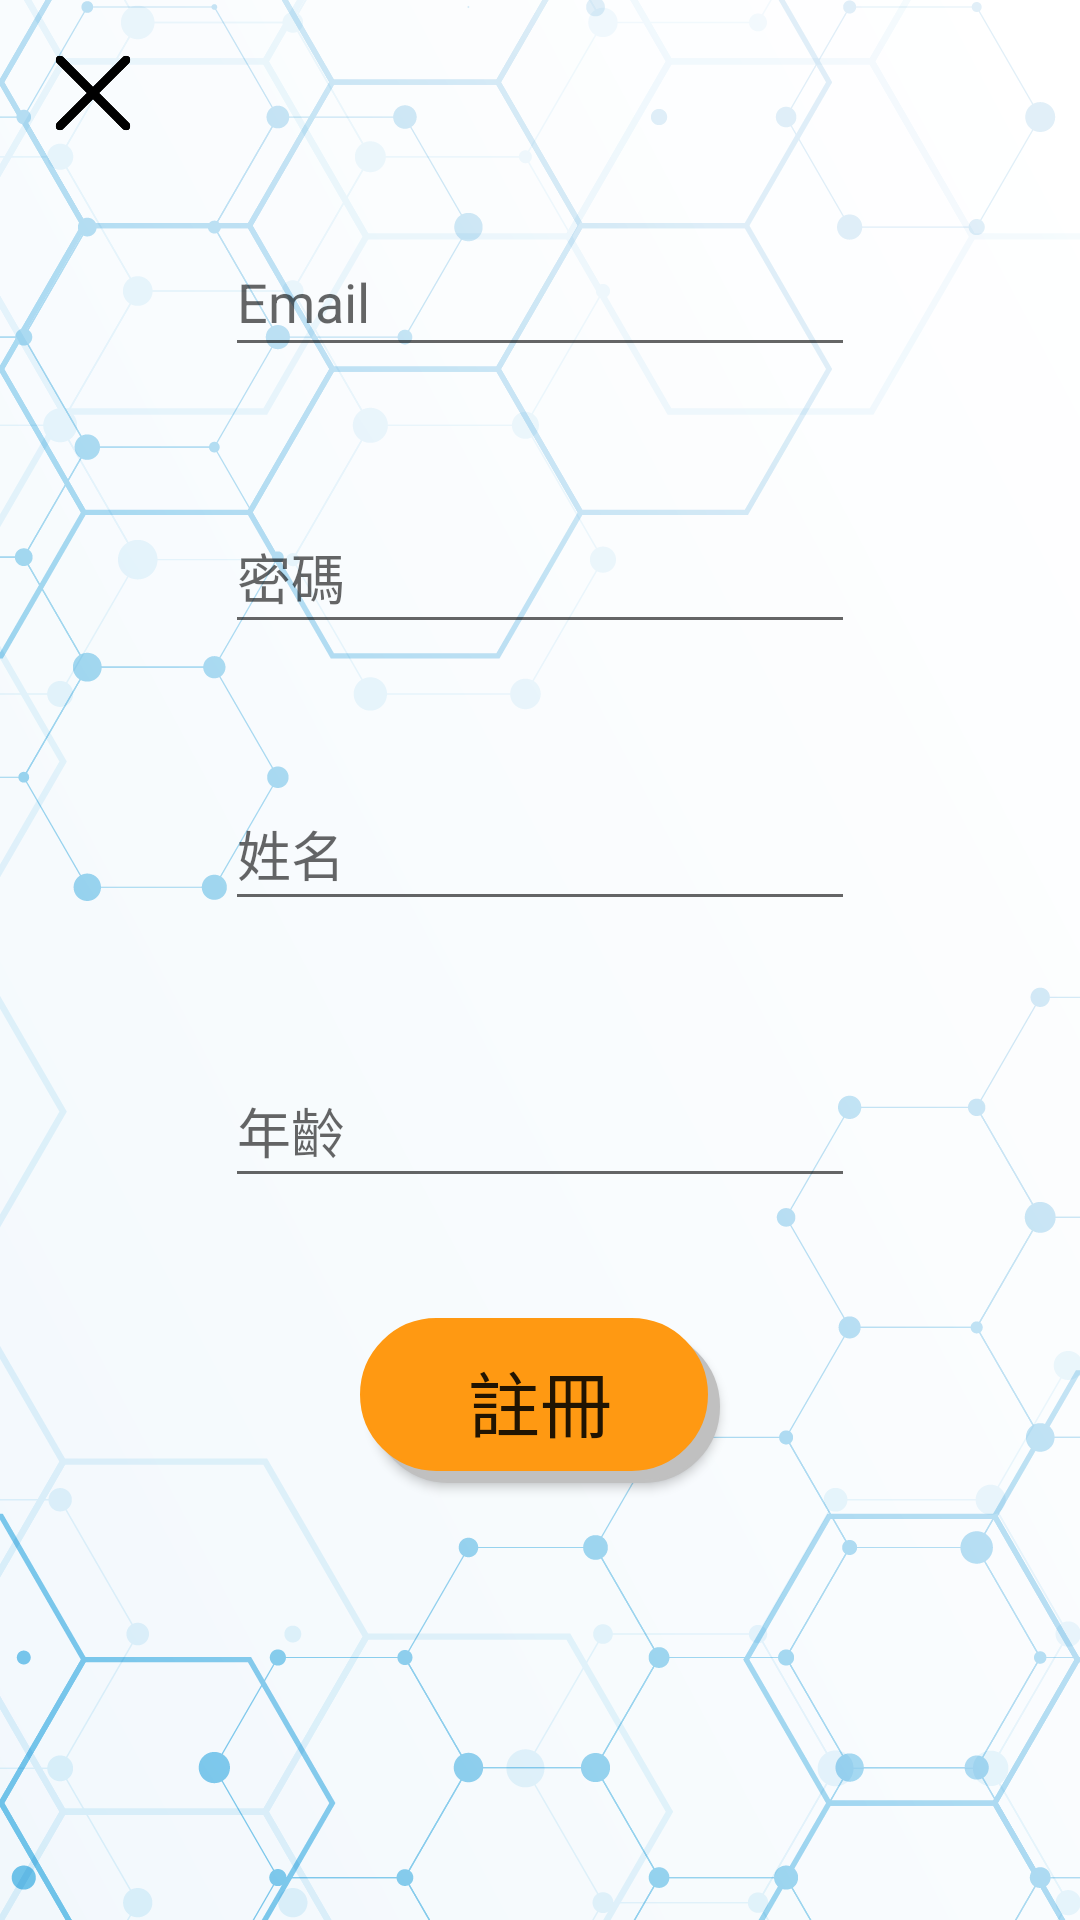

Icon click points for this 1080w x 1920h phone screenshot, format (x,y):
delete: (89,89)
